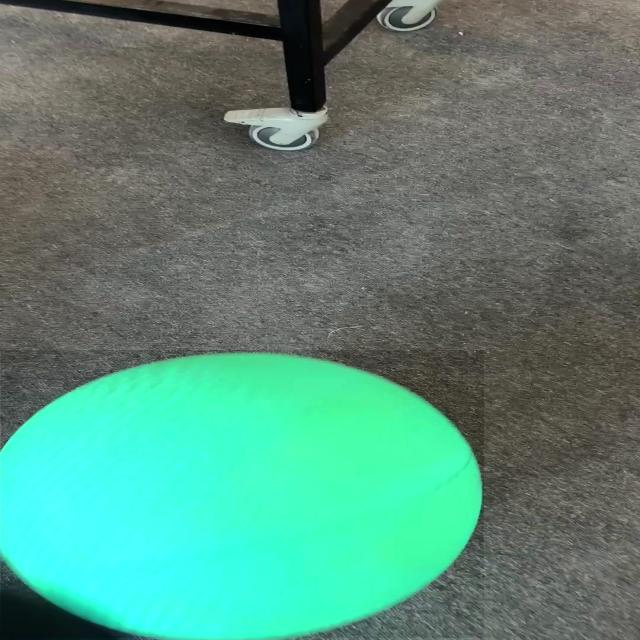Algae: (1, 351, 484, 638)
